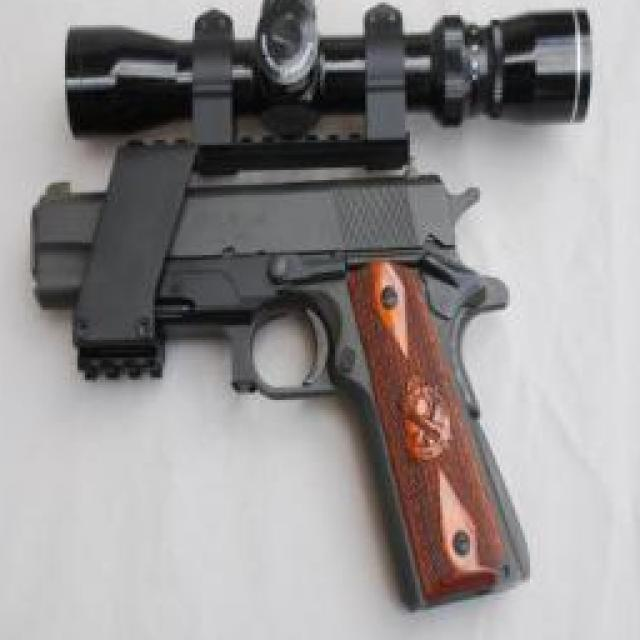pistol: (13, 160, 535, 609)
